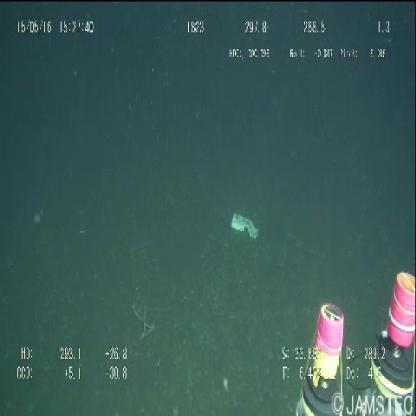Rác: (227, 202, 265, 255)
